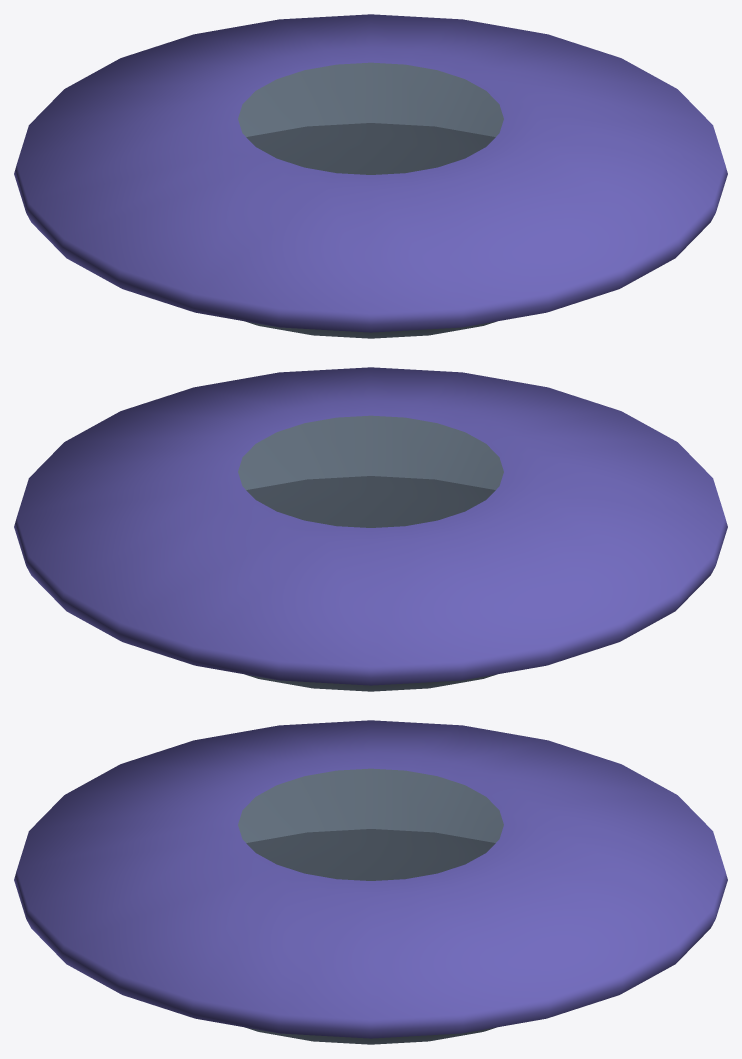
Rendered from S5_BattleShip_Base_01_Lod3.fbx.
The picture shows the model from 3 angles, top to bottom: view 1: azimuth 30°, elevation 25°; view 2: azimuth 150°, elevation 25°; view 3: azimuth 270°, elevation 25°; orthographic projection.
Parts seen in each view (by area): view 1: S5_BattleShip_Base_01_Lod3; view 2: S5_BattleShip_Base_01_Lod3; view 3: S5_BattleShip_Base_01_Lod3.
Part boxes in pixels (x1,y1,x2,y2): S5_BattleShip_Base_01_Lod3: (14,14,727,338); S5_BattleShip_Base_01_Lod3: (14,367,727,691); S5_BattleShip_Base_01_Lod3: (14,720,727,1044).
Size of the model in its own units: 7200 by 1388 by 7200.
